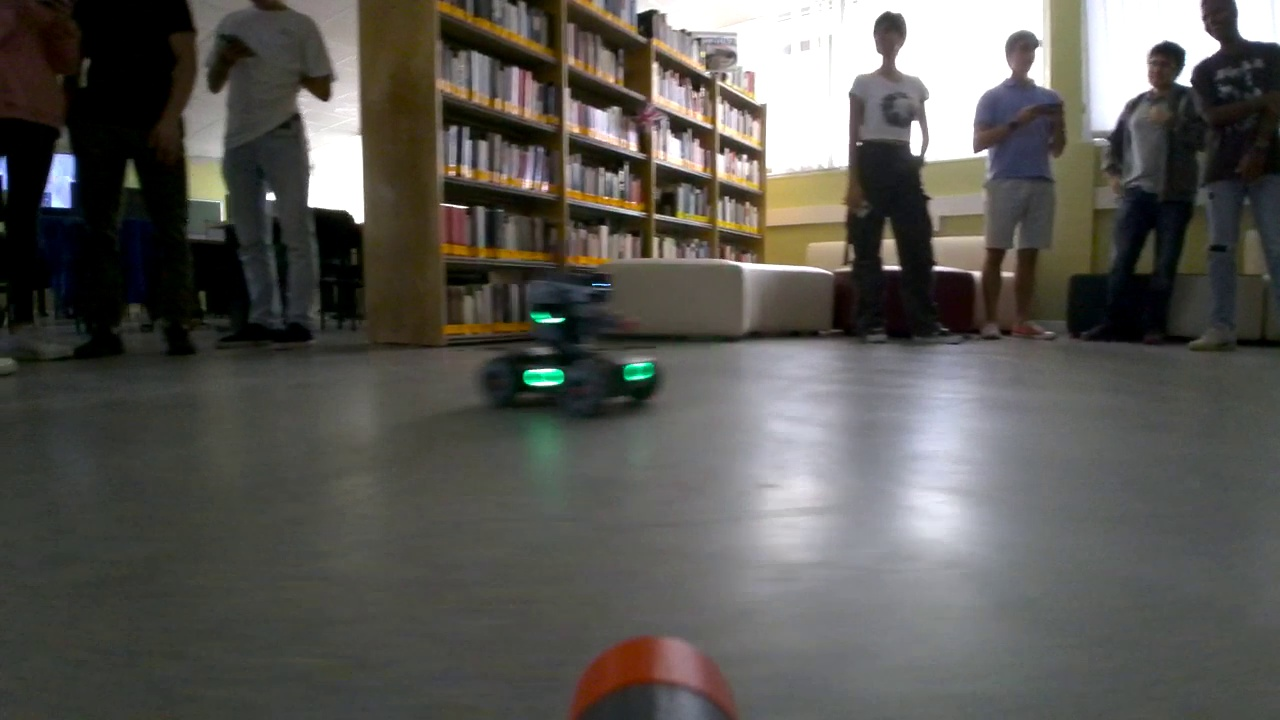robot: (473, 269, 665, 421)
